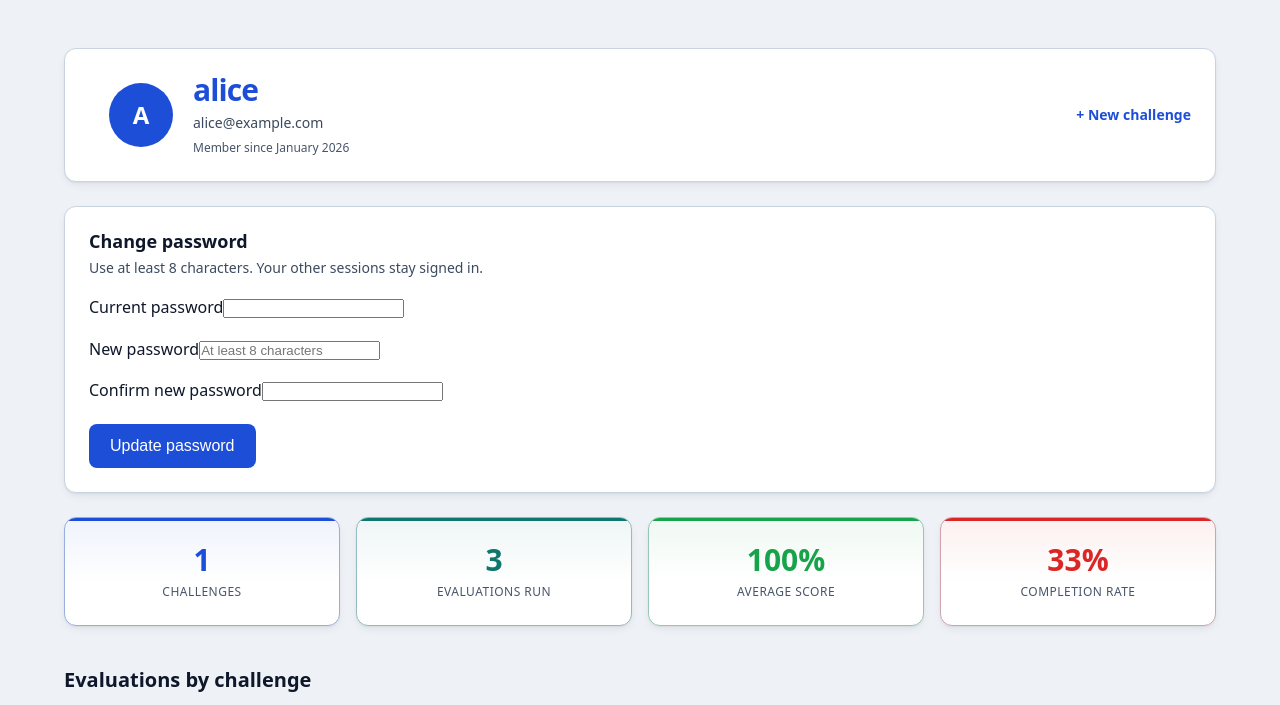
Test: Profile › shows a validation error when the new passwords do not match
Check: the heading "alice" is shown, box [193,73,1056,108]
In the password field labelled "Current password": (314,309) [223,299,404,318], type "currentpass123"
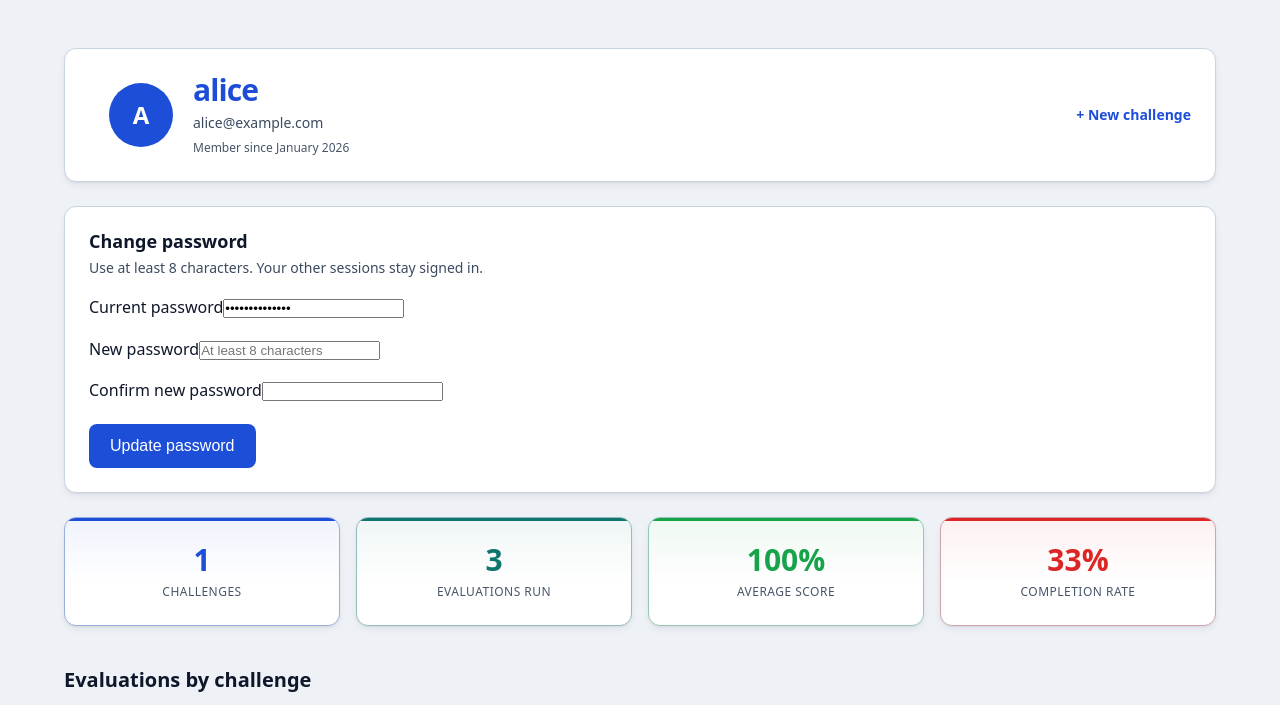
In the password field labelled "New password": (290,350) [199,341,380,360], type "newpass123456"
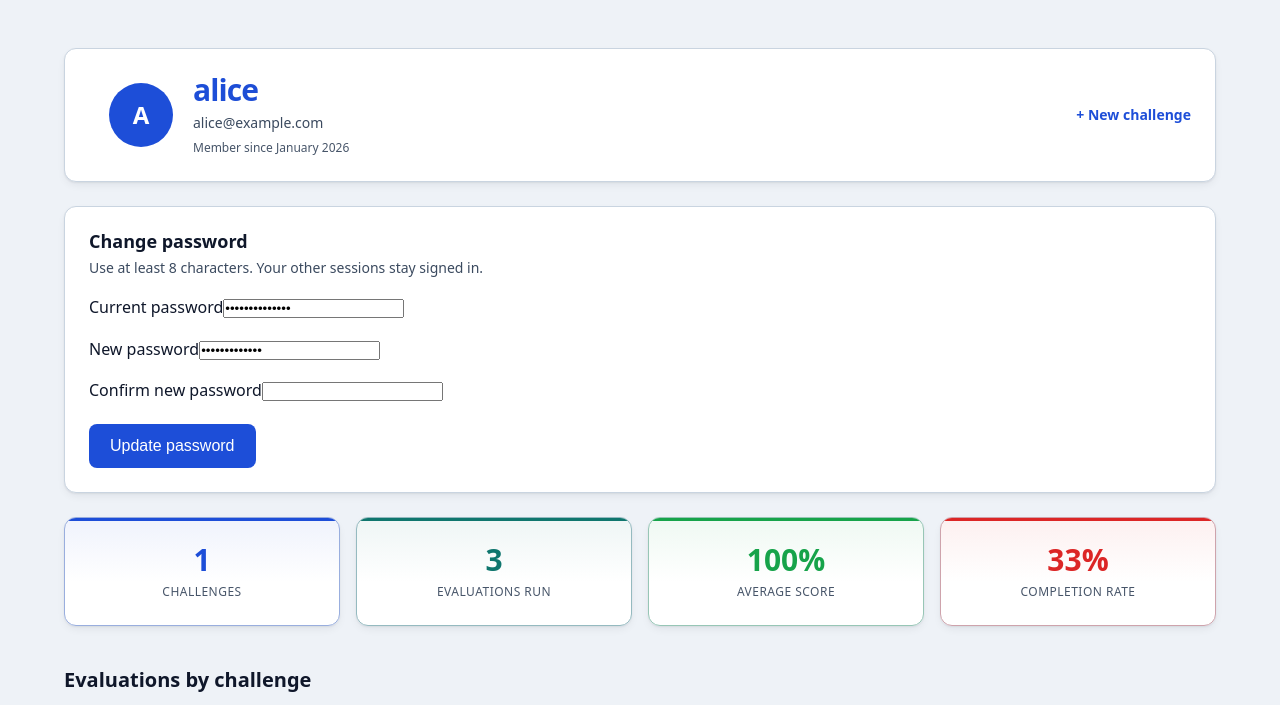
In the password field labelled "Confirm new password": (352,392) [262,382,443,401], type "different12345"
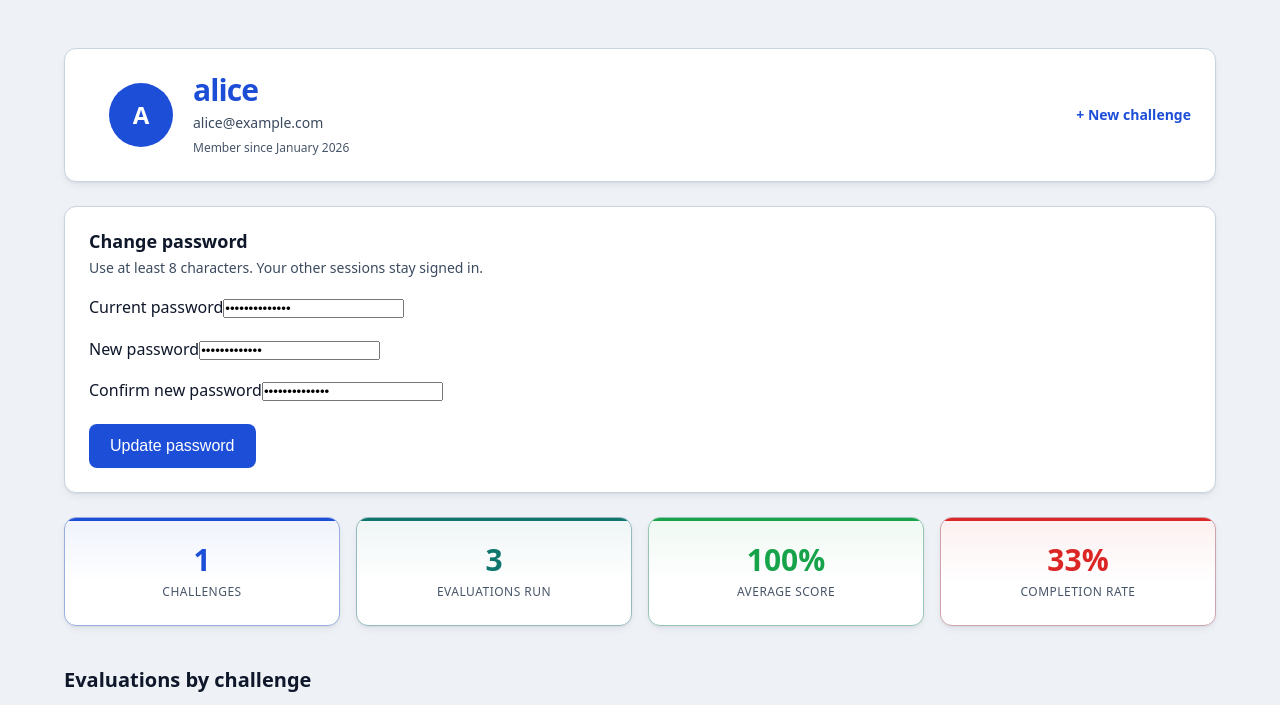
Click the button "Update password": (172,446) [89,424,256,468]
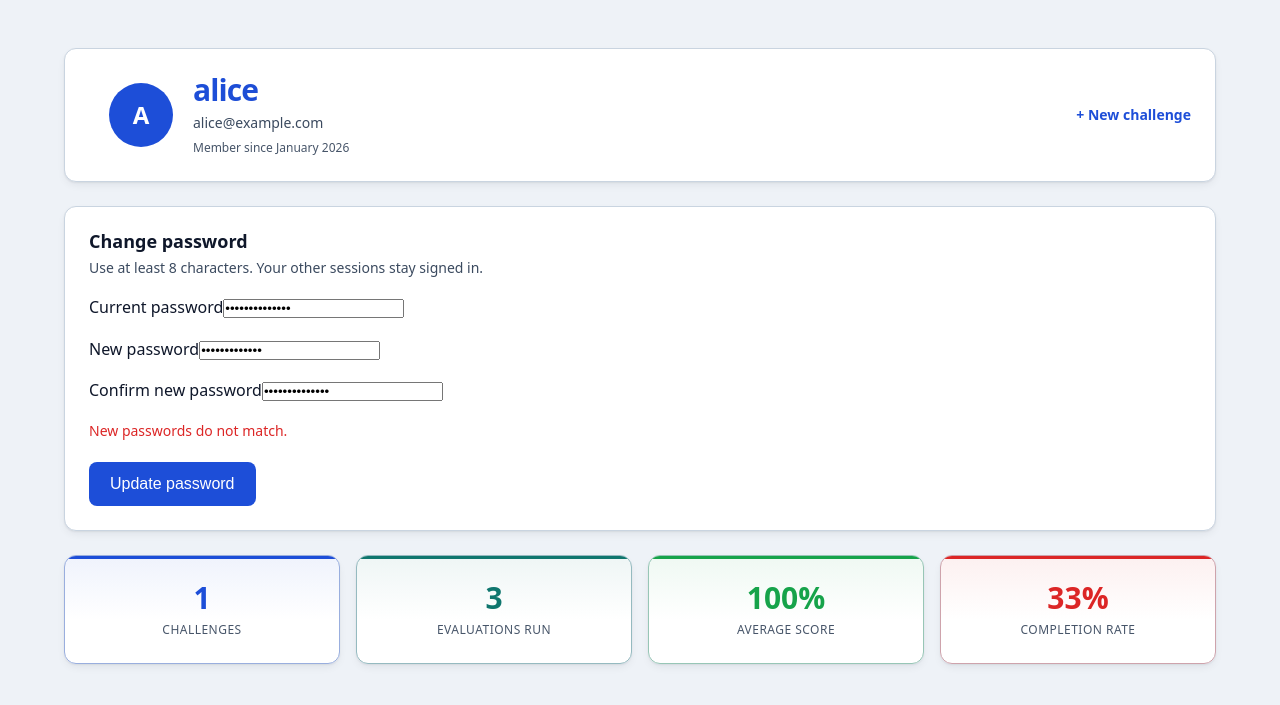
Check: the message reads "New passwords do not match.", box [89,421,287,440]
